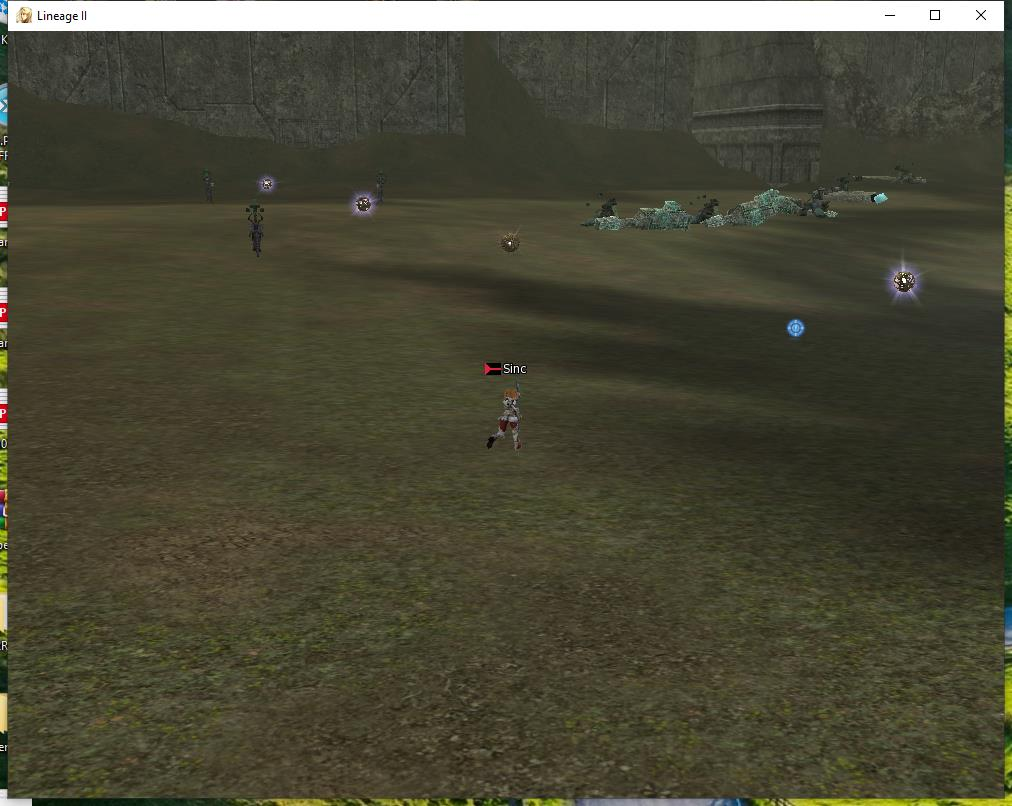monster: (837, 145, 931, 210), (740, 178, 838, 224), (666, 186, 734, 233), (587, 186, 659, 230), (236, 194, 272, 261), (190, 156, 223, 203), (886, 261, 924, 300), (502, 231, 534, 257), (254, 170, 282, 190), (356, 191, 376, 217), (375, 172, 386, 219)
